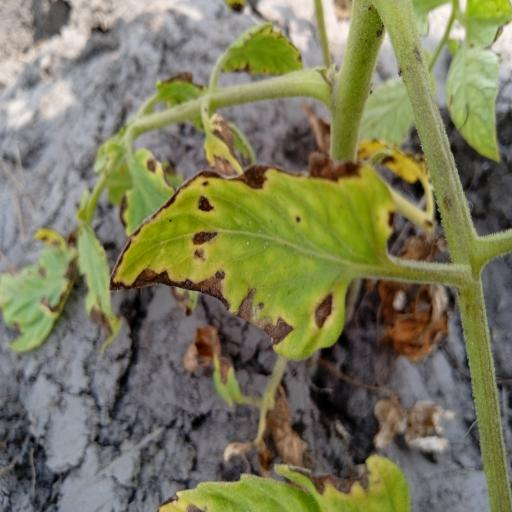Tomato_Brown_Spots: (105, 152, 401, 366)
